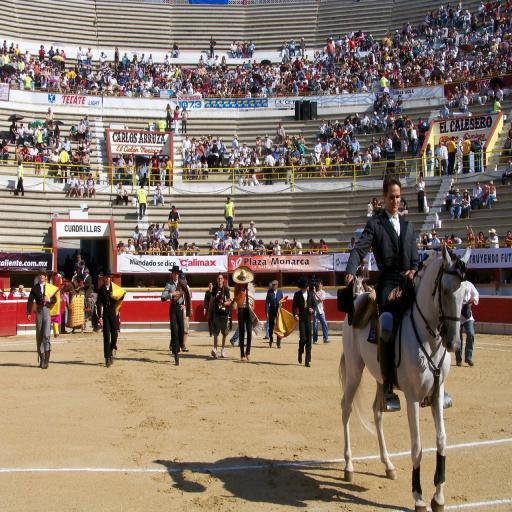horse: (340, 238, 472, 512)
